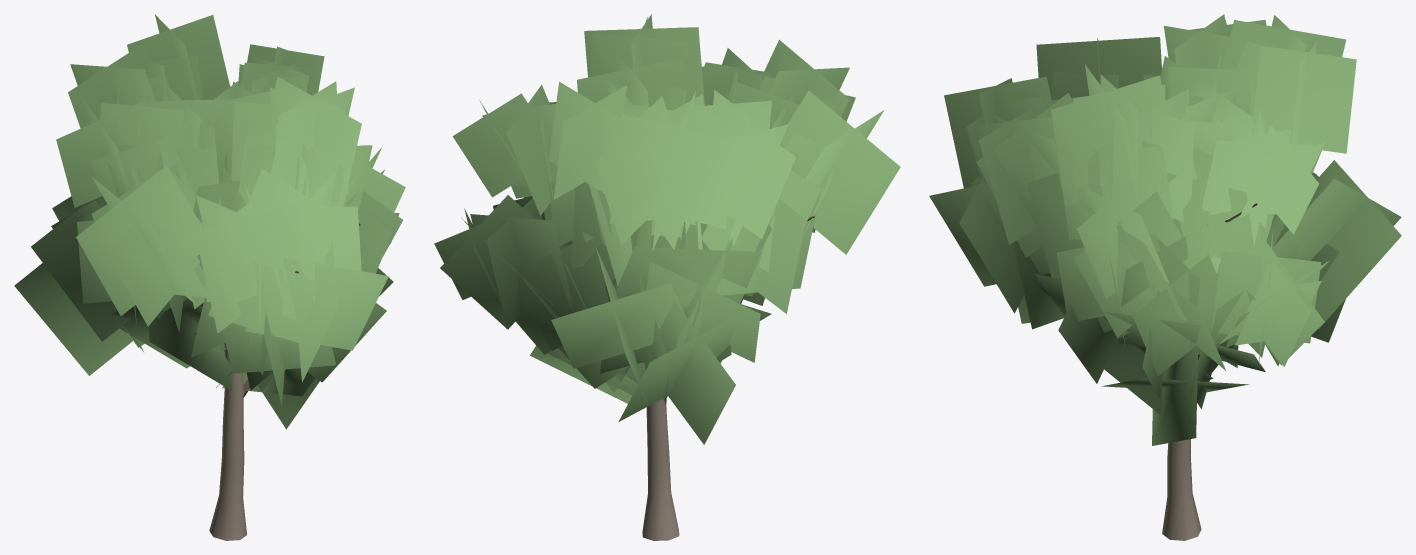
The model's file is tree_apple_a_lod0.glb.
3 renders of one model, left to right at view 1: azimuth 30°, elevation 25°; view 2: azimuth 150°, elevation 25°; view 3: azimuth 270°, elevation 25°, orthographic. The views are drawn at different scales.
Visible parts, largest first — view 1: tree_apple_a_lod0; view 2: tree_apple_a_lod0; view 3: tree_apple_a_lod0.
Part boxes in pixels (x1=…): tree_apple_a_lod0: x1=14, y1=14, x2=405, y2=540; tree_apple_a_lod0: x1=434, y1=14, x2=900, y2=540; tree_apple_a_lod0: x1=929, y1=14, x2=1401, y2=540.
Bounding box in the file's own units: 4.99 × 6.41 × 5.6.
